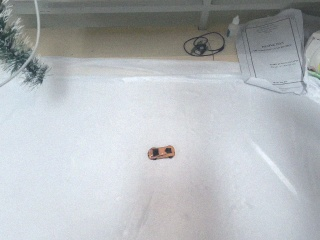toy_car: (148, 145, 175, 160)
